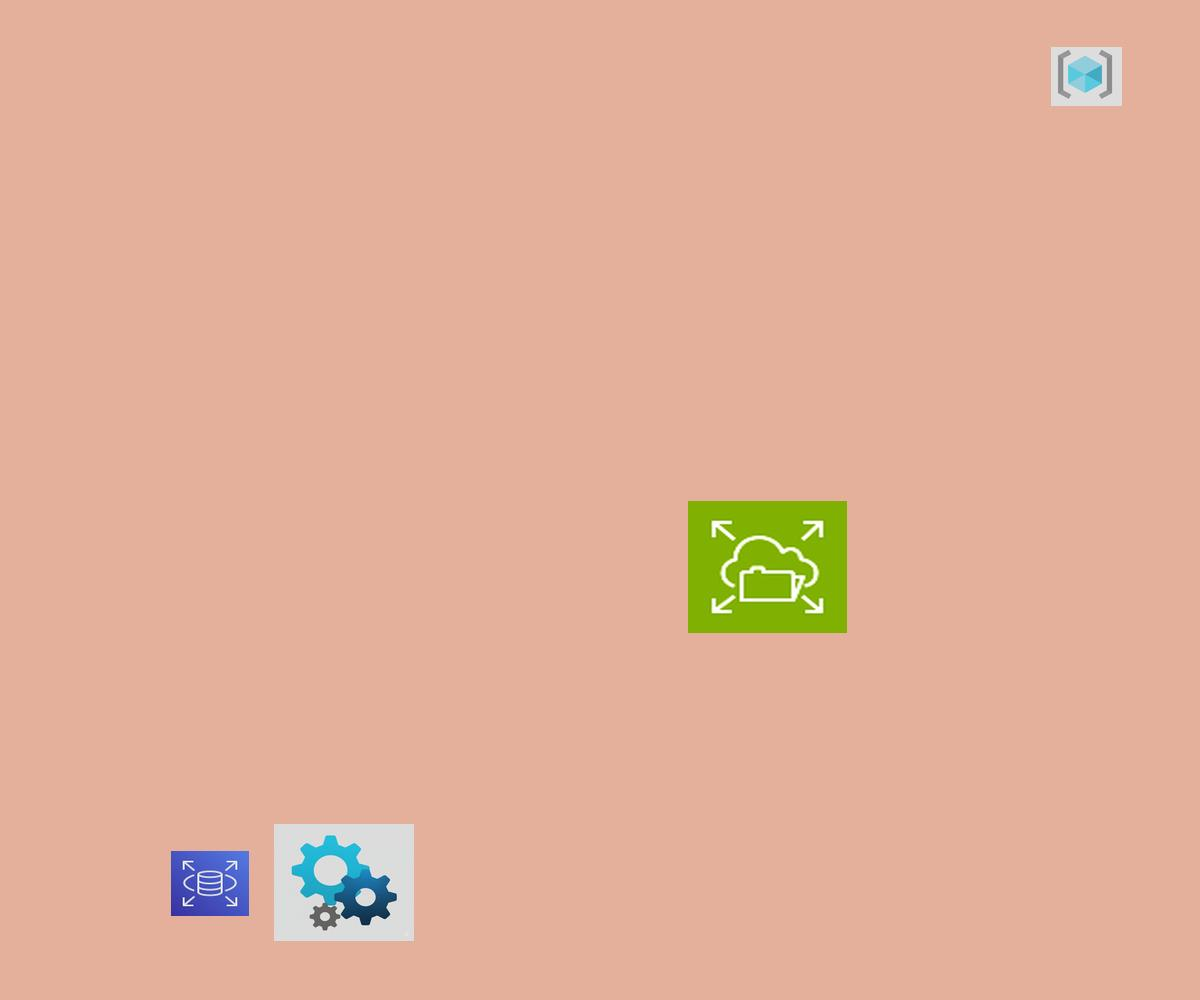AWS-EFS: (688, 501, 847, 633)
AWS-RDS: (171, 851, 249, 916)
Azure_api: (274, 824, 414, 941)
Azure_resource_group: (1051, 47, 1122, 106)
